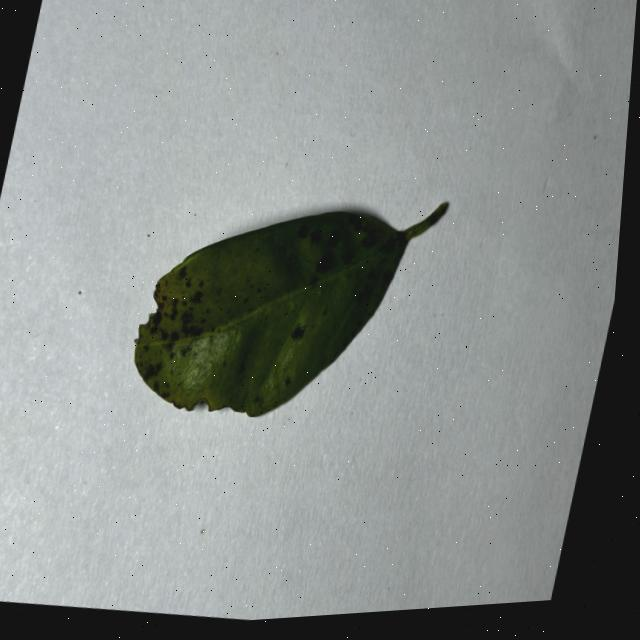sooty_mold: (134, 203, 446, 416)
